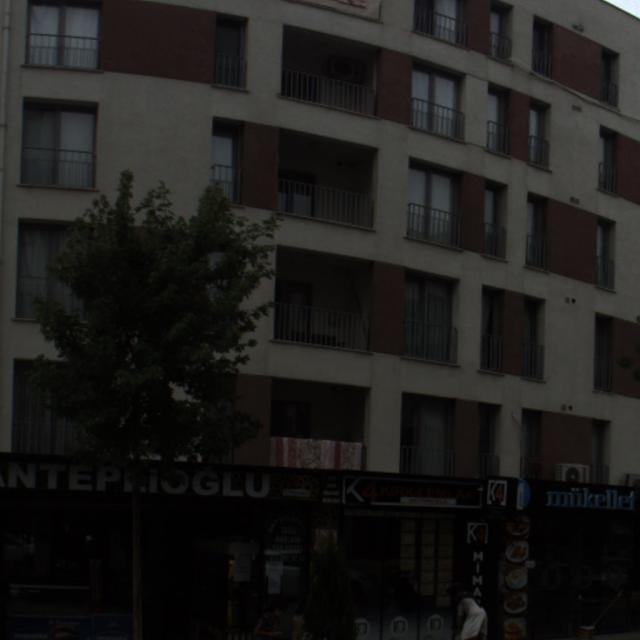SignStore: (3, 453, 321, 506), (321, 470, 517, 522), (516, 478, 638, 514)
